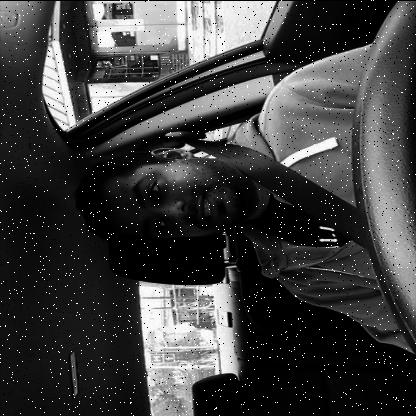seatbelt: (70, 142, 362, 260)
